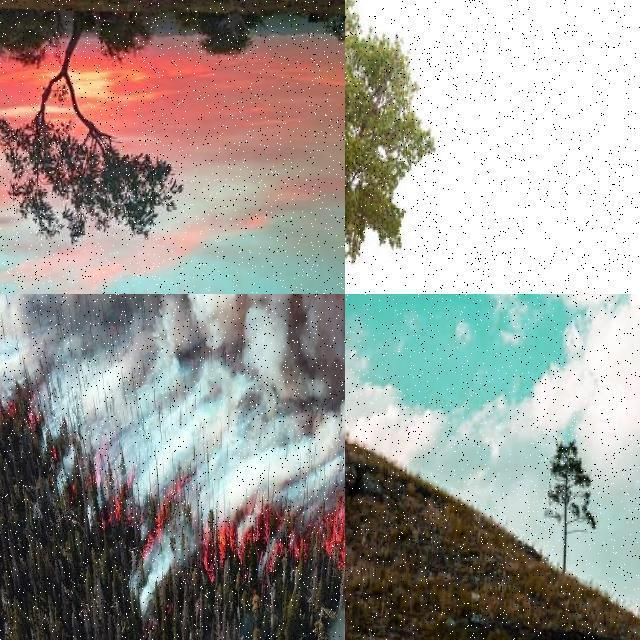tree: (0, 7, 180, 245), (346, 0, 486, 272), (548, 432, 598, 544), (98, 14, 154, 68), (284, 592, 296, 640), (296, 542, 306, 582), (151, 578, 161, 618), (314, 580, 324, 616), (98, 581, 106, 619), (252, 594, 262, 618), (118, 448, 125, 478), (168, 627, 178, 640), (276, 624, 284, 640), (251, 627, 259, 640), (297, 635, 302, 640)
